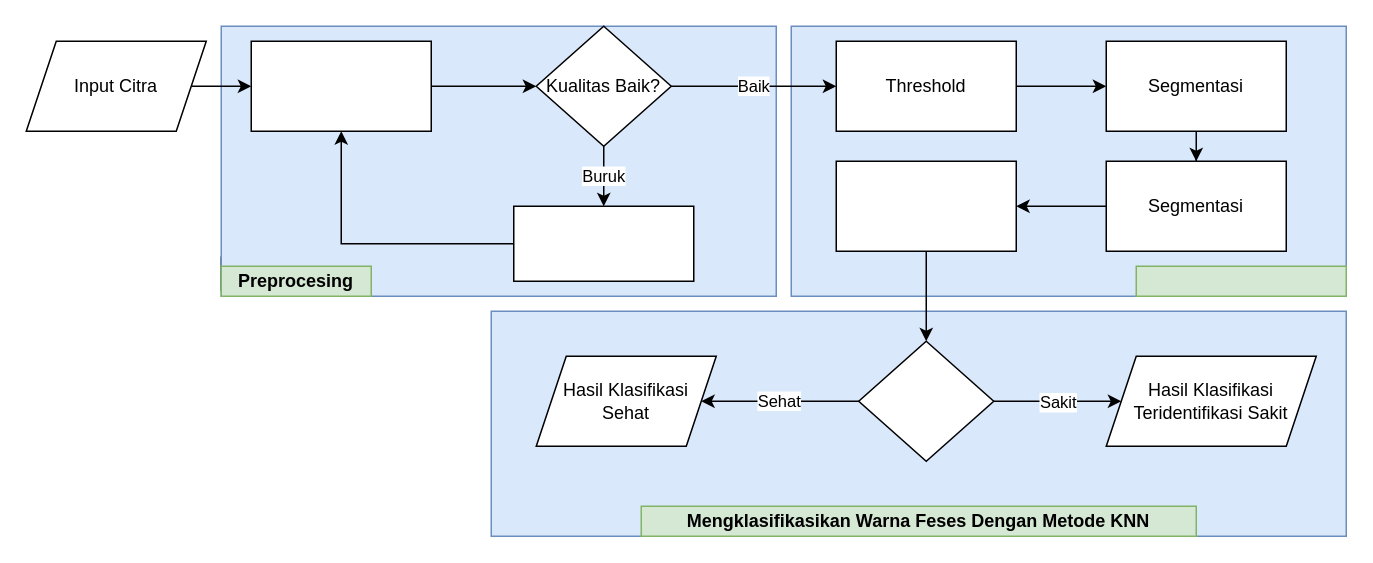
Some shapes in this 1373 by 563 pixel diagram are drawn without their labels. Here are the shapes that lost their labels. From the top down, the centre of each, then its label:
the point at 340,85: Deteksi RGB Citra
the point at 925,205: Hitung Ekstra Ciri RGB
the point at 603,243: Perbaikan Citra
the point at 1240,280: Image Processing
the point at 925,400: Klasifikasi
